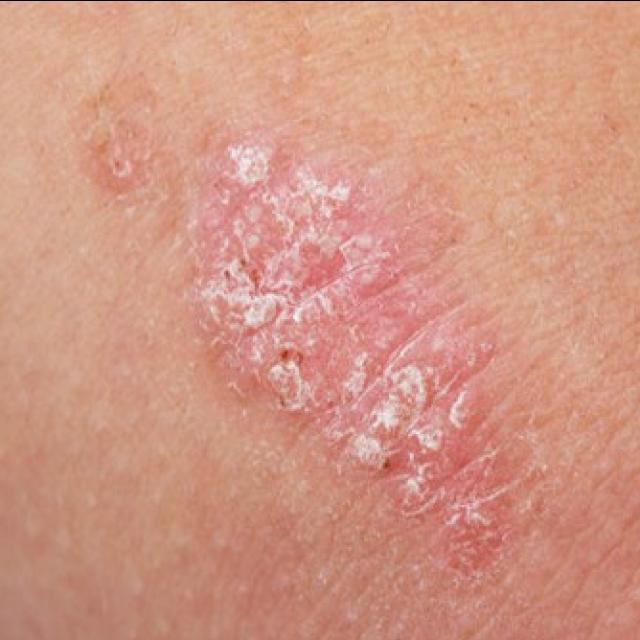Psoriasis: (69, 48, 533, 598)
